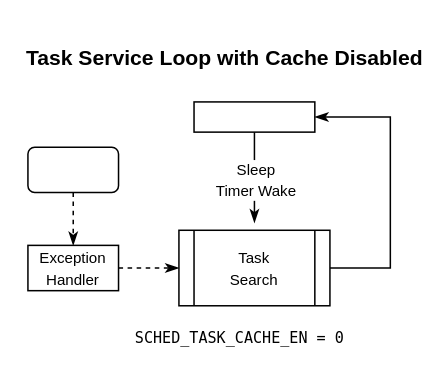
This 448x391 diagram has some shape labels left out. The shapes that lost their labels are listed below. From the top down, each one's centre as x and y in pixels, then its label:
pixel 254 116: Sleep
pixel 72 169: Exception Event
